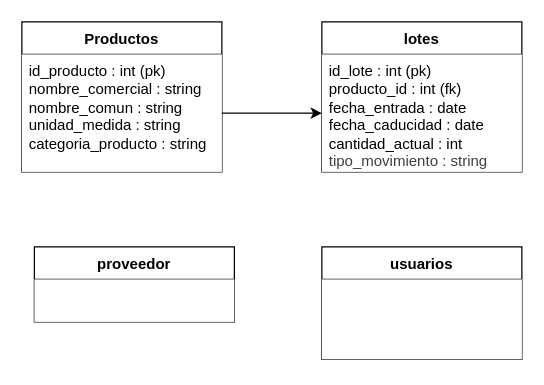
Some shapes in this 544 by 385 pixel diagram are drawn without their labels. The shapes that lost their labels are listed below. From the top down, each one's centre as x and y in pixels, then its label:
At (134,300): "id_proveedor : diconsa".
At (421,319): "id_usuario : int (pk) name_user: string password : string".
